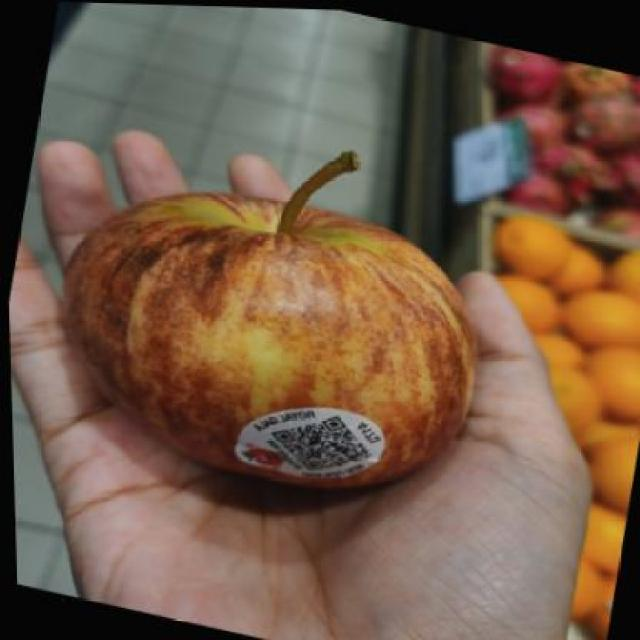Rotten: (90, 196, 488, 507)
